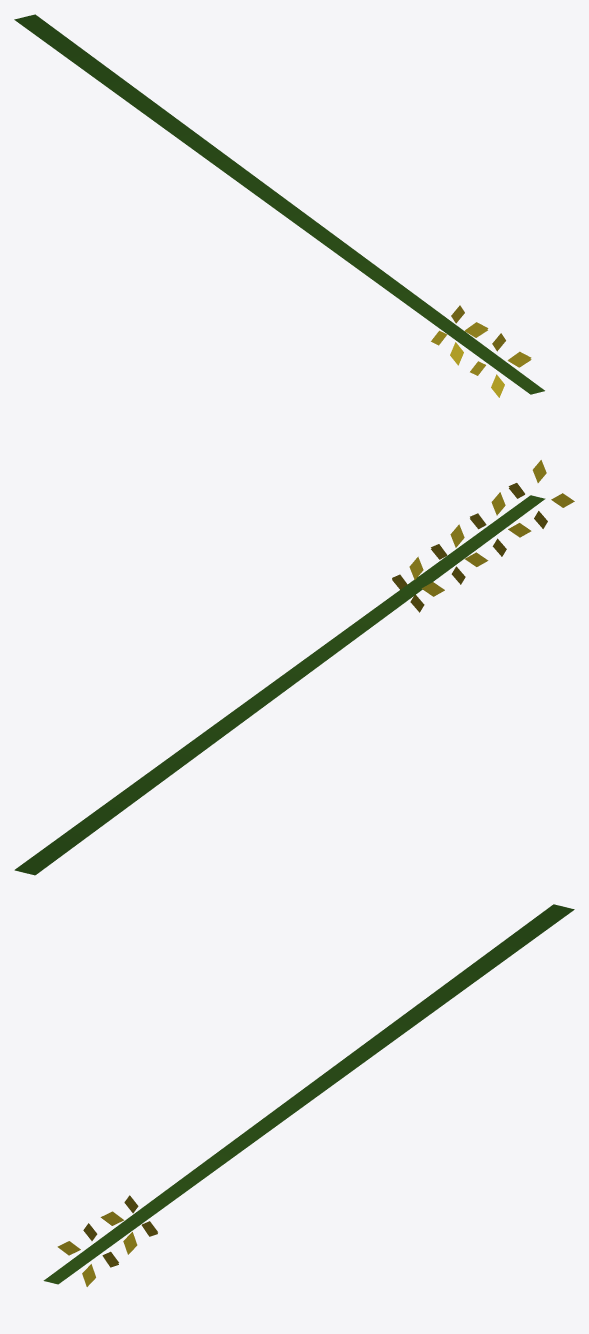
The model's file is Flower_Goldenrod.glb.
The picture shows the model from 3 angles, top to bottom: view 1: azimuth 30°, elevation 25°; view 2: azimuth 150°, elevation 25°; view 3: azimuth 330°, elevation 25°; orthographic projection.
Parts seen in each view (by area): view 1: Flower_Goldenrod; view 2: Flower_Goldenrod; view 3: Flower_Goldenrod.
Boxes of the visible parts, bbox=[...] form: Flower_Goldenrod: bbox=[14, 14, 544, 397]; Flower_Goldenrod: bbox=[14, 460, 574, 875]; Flower_Goldenrod: bbox=[43, 904, 574, 1286].
Bounding box in the file's own units: 0.0187 × 0.0187 × 0.2518.
